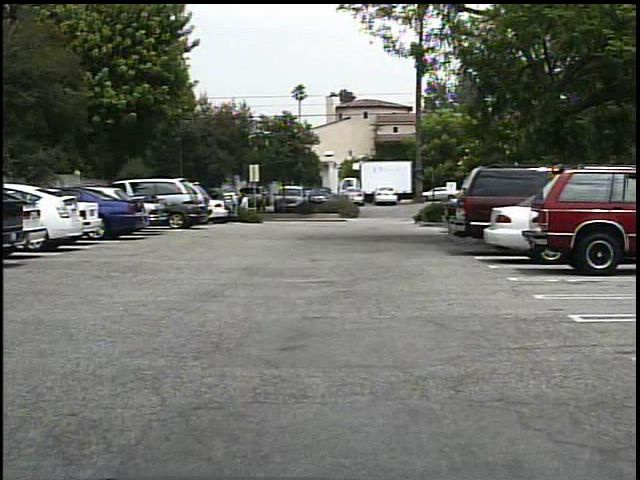person: (225, 189, 240, 220), (239, 193, 254, 220), (235, 189, 247, 220)
